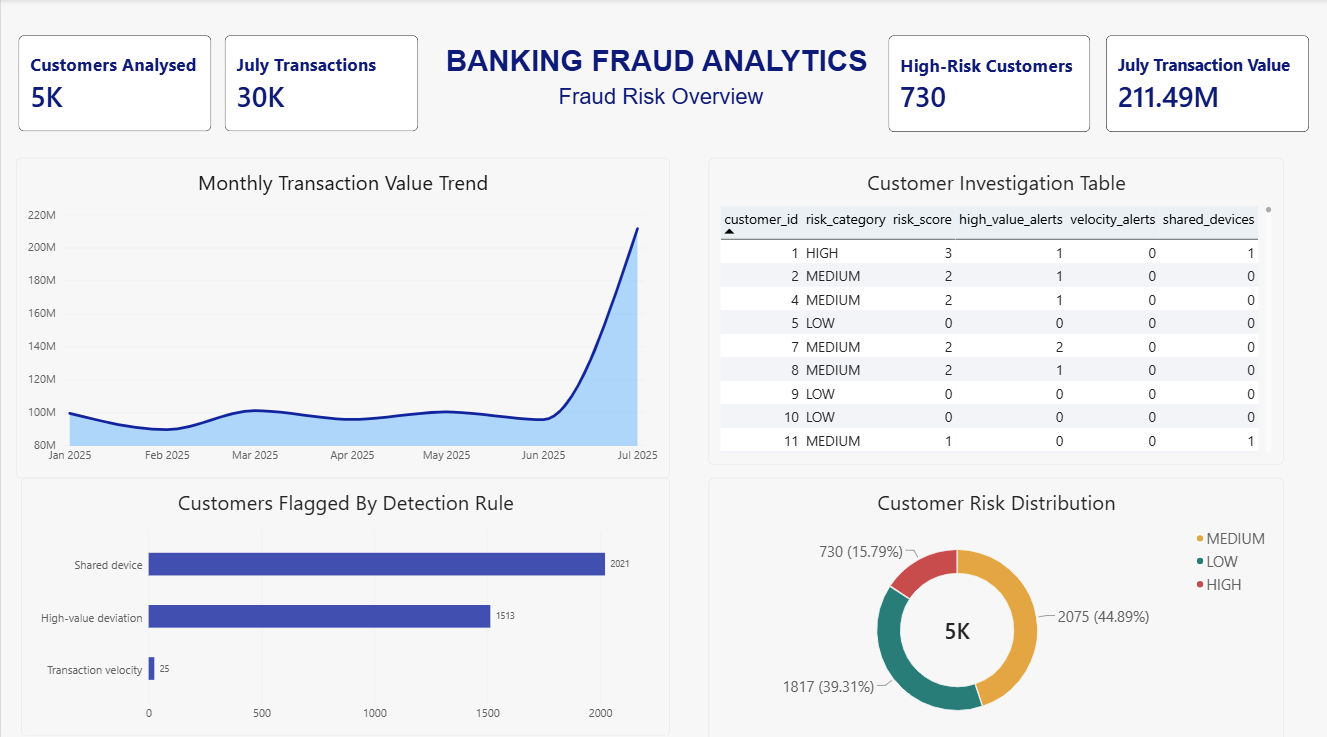

The dashboard page shown, as its layout file describes it:
{"tool":"powerbi","page":{"name":"Page 1","canvas":[1920,1080],"ordinal":0},"visuals":[{"type":"textbox","box":[643.7,66,618.9,110.4],"z":0},{"type":"textbox","box":[645.3,123.1,618.9,52.5],"z":1000},{"type":"cardVisual","fields":{"Data":["banking customer_risk_summary.Customers Analysed"]},"box":[24.6,52.5,279.9,140],"z":2000},{"type":"cardVisual","fields":{"Data":["banking customer_risk_summary.July Transaction Value"]},"box":[1599.7,52,294,140],"z":3000},{"type":"cardVisual","fields":{"Data":["banking customer_risk_summary.July Transactions"]},"box":[323.2,52.5,280.5,139.3],"z":4000},{"type":"cardVisual","fields":{"Data":["banking customer_risk_summary.High-Risk Customers"]},"box":[1285.7,52,292,140],"z":5000},{"type":"areaChart","title":"Monthly Transaction Value Trend","fields":{"Category":["banking transactions.transaction_timestamp.Variation.Date Hierarchy.Year","banking transactions.transaction_timestamp.Variation.Date Hierarchy.Month"],"Y":["Sum(banking transactions.transaction_amount)"]},"box":[22,230,946,464],"z":6000},{"type":"donutChart","title":"Customer Risk Distribution","fields":{"Category":["banking customer_risk_summary.risk_category"],"Y":["banking customer_risk_summary.Customers Analysed"]},"box":[1024.3,693.1,832.4,387.3],"z":7000},{"type":"clusteredBarChart","title":"Customers Flagged By Detection Rule","fields":{"Category":["Detection Rules.Detection Rule"],"Y":["banking customer_risk_summary.Customers Flagged"]},"box":[29,693.1,939.2,374.6],"z":8000},{"type":"tableEx","title":"Customer Investigation Table ","fields":{"Values":["banking customer_risk_summary.customer_id","banking customer_risk_summary.risk_category","banking customer_risk_summary.risk_score","banking customer_risk_summary.high_value_alerts","banking customer_risk_summary.velocity_alerts","banking customer_risk_summary.shared_devices"]},"box":[1024.3,229.8,832.4,445.2],"z":10000}]}

Visuals, with their boxes in screenshot pixels (x1, y1, x2, y2), scaled from the page's 1920x1080 canvas onto the 1327x737 screenshot:
textbox: bbox=(445, 45, 873, 120)
textbox: bbox=(446, 84, 874, 120)
cardVisual - banking customer_risk_summary.Customers Analysed: bbox=(17, 36, 210, 131)
cardVisual - banking customer_risk_summary.July Transaction Value: bbox=(1106, 35, 1309, 131)
cardVisual - banking customer_risk_summary.July Transactions: bbox=(223, 36, 417, 131)
cardVisual - banking customer_risk_summary.High-Risk Customers: bbox=(889, 35, 1090, 131)
"Monthly Transaction Value Trend" areaChart: bbox=(15, 157, 669, 474)
"Customer Risk Distribution" donutChart: bbox=(708, 473, 1283, 736)
"Customers Flagged By Detection Rule" clusteredBarChart: bbox=(20, 473, 669, 729)
"Customer Investigation Table " tableEx: bbox=(708, 157, 1283, 461)
